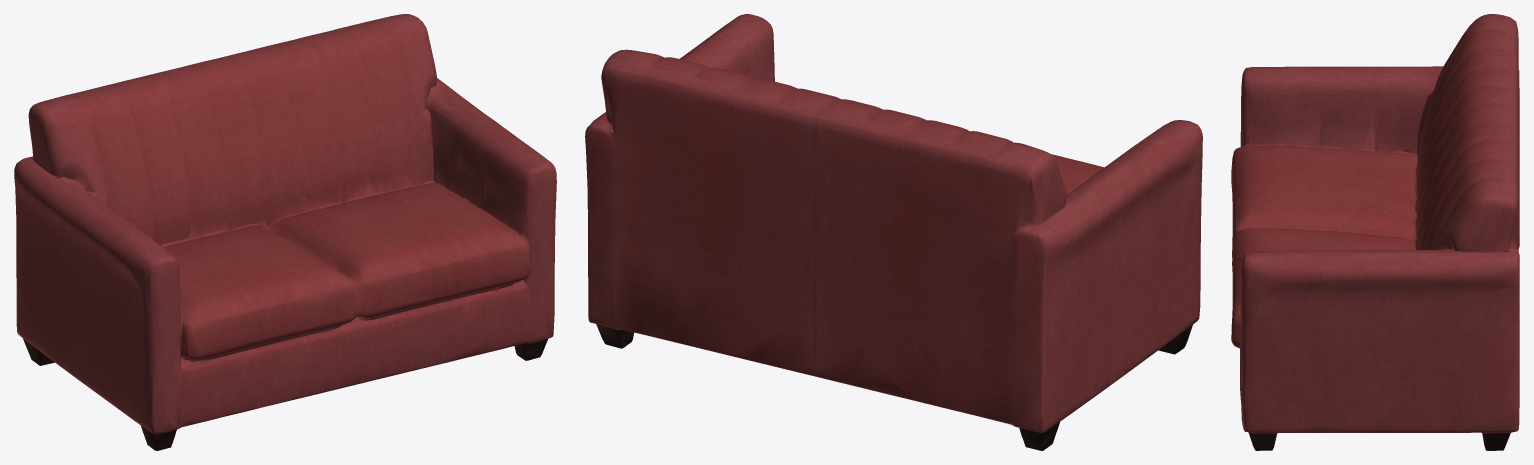
Rendered from sofa.glb.
The picture shows the model from 3 angles, left to right: view 1: azimuth 30°, elevation 25°; view 2: azimuth 150°, elevation 25°; view 3: azimuth 270°, elevation 25°; orthographic projection. The views are drawn at different scales.
Visible parts, largest first — view 1: sofa; view 2: sofa; view 3: sofa.
Part boxes in pixels (x1,y1,x2,y2): sofa: (14,14,556,450); sofa: (585,14,1202,450); sofa: (1231,14,1519,450).
Size of the model in its own units: 1.78 by 1.05 by 1.07.
Materials: 1 (1 with a texture image).
